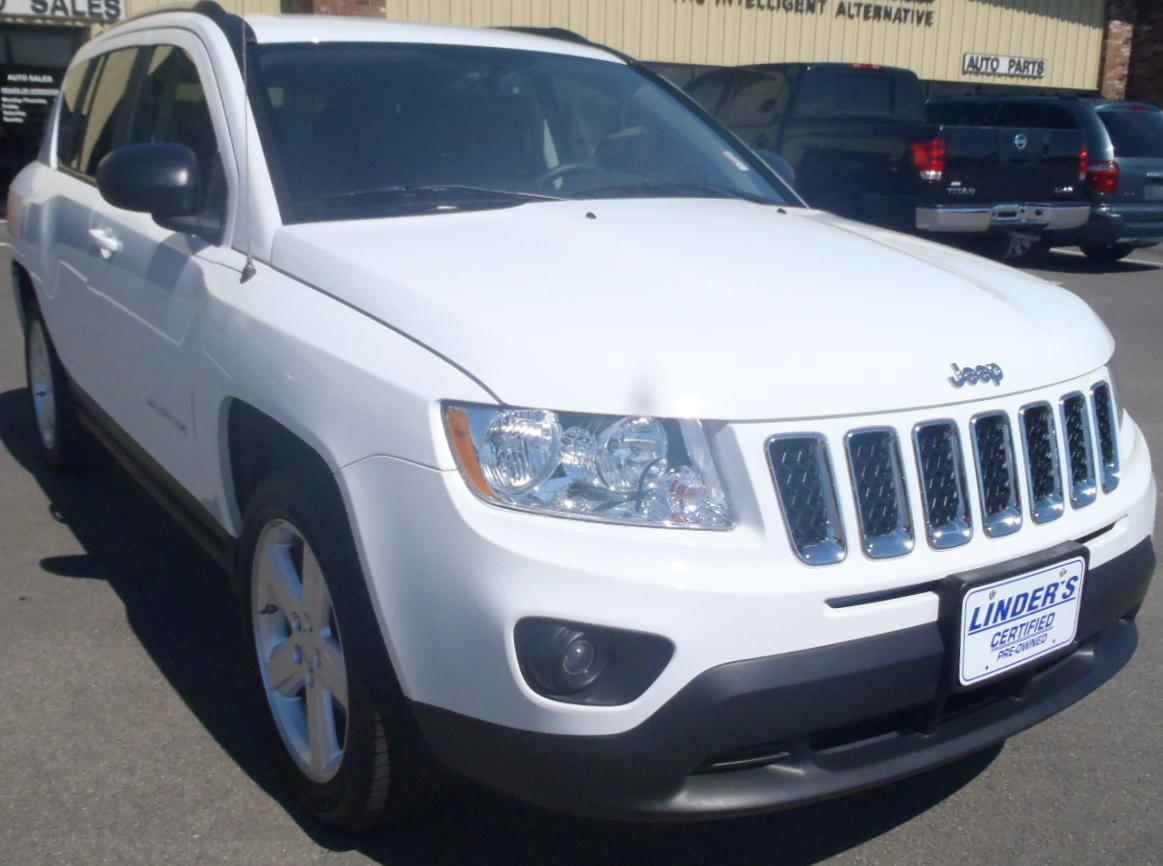front_view: (423, 336, 1161, 808)
headlight: (431, 387, 754, 543)
side_glass: (42, 44, 238, 251)
